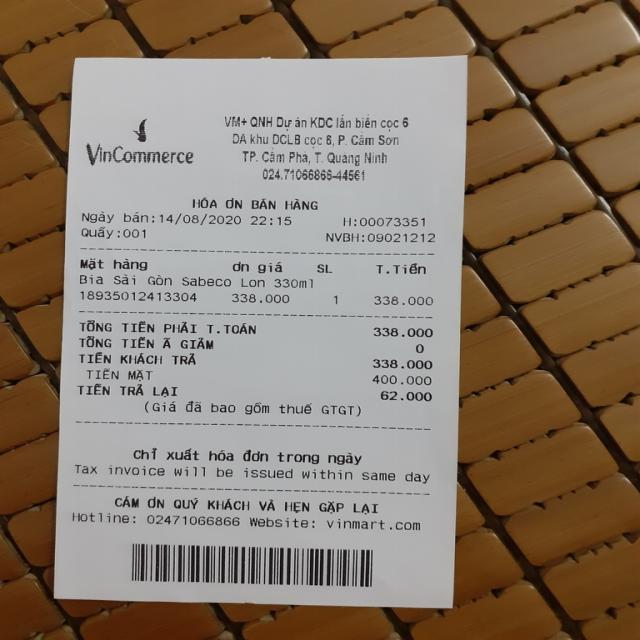Date: (159, 212, 244, 228)
Store_Name: (80, 142, 200, 169)
amount_number: (372, 322, 437, 339)
label_total: (78, 320, 262, 338)
